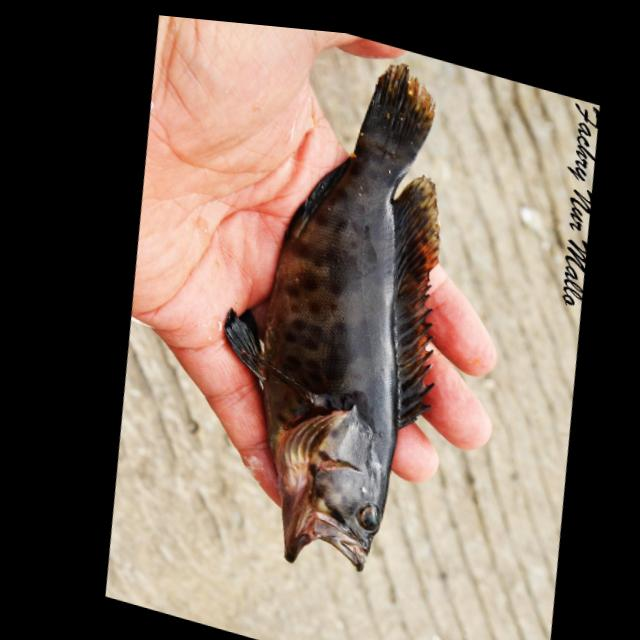Groupers: (151, 15, 520, 610)
